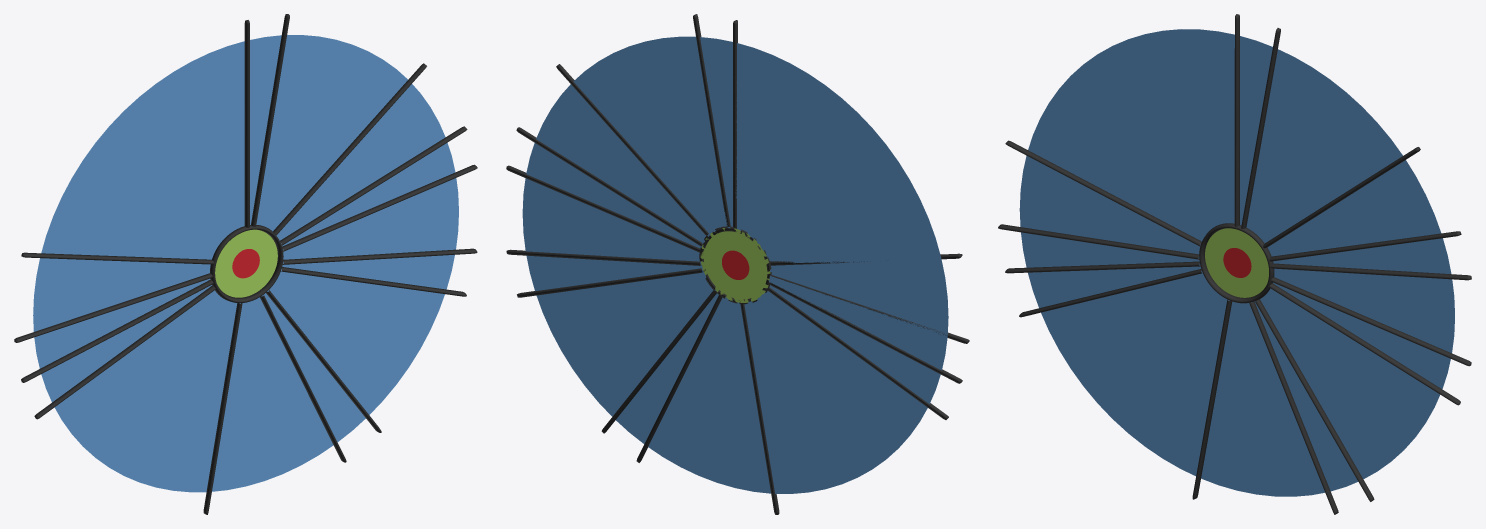
File: Darchary_L6.fbx
The picture shows the model from 3 angles, left to right: view 1: azimuth 30°, elevation 25°; view 2: azimuth 150°, elevation 25°; view 3: azimuth 330°, elevation 25°; orthographic projection. The views are drawn at different scales.
Parts seen in each view (by area): view 1: L6_N, L6_DarkLine, L6_J, L6_I, L6_G, L6_N2x, L6_B, L6_M, L6_C, L6_B2x, L6_J2x, L6_G2x (+14 smaller); view 2: L6_N, L6_J, L6_DarkLine, L6_I, L6_G, L6_B, L6_N2x, L6_M, L6_C, L6_B2x, L6_J2x, L6_G2x (+14 smaller); view 3: L6_N, L6_DarkLine, L6_J, L6_I, L6_G, L6_B, L6_N2x, L6_C, L6_M, L6_B2x, L6_J2x, L6_G2x (+14 smaller).
Part boxes in pixels (bbox=[...]): L6_N: bbox=[70, 73, 244, 258]; L6_DarkLine: bbox=[14, 14, 477, 514]; L6_J: bbox=[79, 290, 237, 463]; L6_I: bbox=[212, 332, 333, 491]; L6_G: bbox=[268, 269, 411, 389]; L6_N2x: bbox=[41, 41, 244, 254]; L6_B: bbox=[262, 83, 373, 203]; L6_M: bbox=[33, 258, 210, 331]; L6_C: bbox=[276, 84, 445, 240]; L6_B2x: bbox=[279, 35, 407, 117]; L6_J2x: bbox=[54, 390, 211, 492]; L6_G2x: bbox=[349, 289, 444, 414]; L6_N: bbox=[735, 74, 911, 262]; L6_J: bbox=[744, 291, 903, 465]; L6_DarkLine: bbox=[506, 14, 969, 514]; L6_I: bbox=[648, 334, 770, 493]; L6_G: bbox=[570, 270, 715, 390]; L6_B: bbox=[608, 84, 721, 205]; L6_N2x: bbox=[737, 43, 941, 258]; L6_M: bbox=[770, 258, 948, 336]; L6_C: bbox=[536, 84, 708, 243]; L6_B2x: bbox=[573, 36, 703, 119]; L6_J2x: bbox=[770, 390, 927, 493]; L6_G2x: bbox=[536, 291, 632, 416]; L6_N: bbox=[1058, 62, 1234, 228]; L6_DarkLine: bbox=[998, 14, 1471, 514]; L6_J: bbox=[1066, 271, 1229, 449]; L6_I: bbox=[1201, 343, 1324, 496]; L6_G: bbox=[1260, 288, 1405, 442]; L6_B: bbox=[1252, 94, 1367, 227]; L6_N2x: bbox=[1028, 29, 1234, 165]; L6_C: bbox=[1267, 160, 1441, 256]; L6_M: bbox=[1019, 155, 1200, 254]; L6_B2x: bbox=[1270, 49, 1402, 177]; L6_J2x: bbox=[1041, 306, 1200, 475]; L6_G2x: bbox=[1342, 373, 1439, 479].
Size of the model in its own units: 2.18 by 2.19 by 0.0201.
